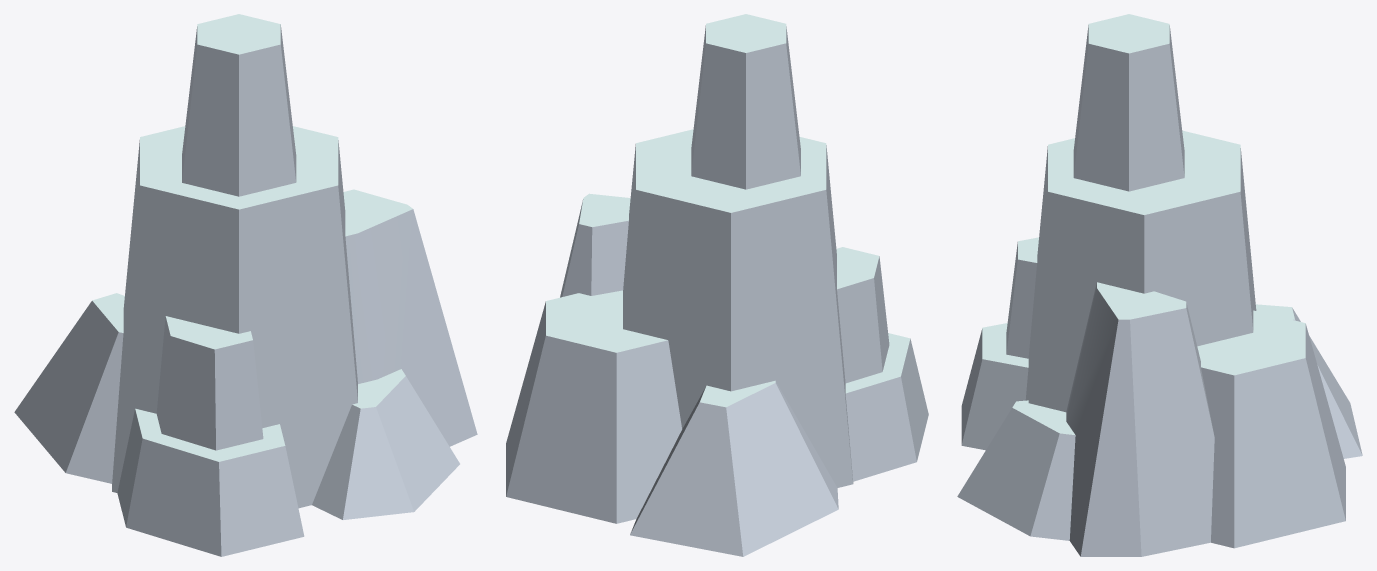
Rendered from rockFormationMedium.glb.
The picture shows the model from 3 angles, left to right: view 1: azimuth 30°, elevation 25°; view 2: azimuth 150°, elevation 25°; view 3: azimuth 270°, elevation 25°; orthographic projection. The views are drawn at different scales.
Parts seen in each view (by area): view 1: rockFormationMedium; view 2: rockFormationMedium; view 3: rockFormationMedium.
Boxes of the visible parts, x1,y1,x2,y2 form: rockFormationMedium: [14, 14, 477, 556]; rockFormationMedium: [506, 14, 928, 556]; rockFormationMedium: [957, 14, 1362, 556].
Bounding box in the file's own units: 0.7182 × 0.8299 × 0.7231.
